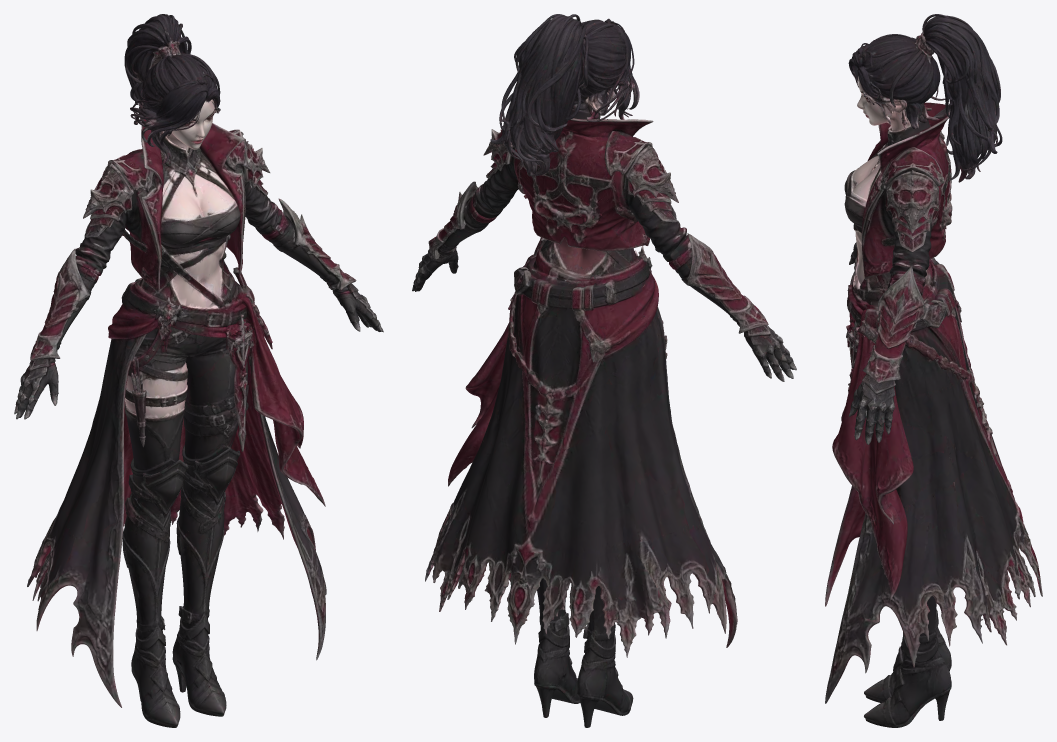
File: nadyamodel.glb
3 views of the same model, side by side, from view 1: azimuth 30°, elevation 25°; view 2: azimuth 150°, elevation 25°; view 3: azimuth 270°, elevation 25° (orthographic). The views are drawn at different scales.
Size of the model in its own units: 1.07 by 1.9 by 0.5411.
1 material, 1 textured.
